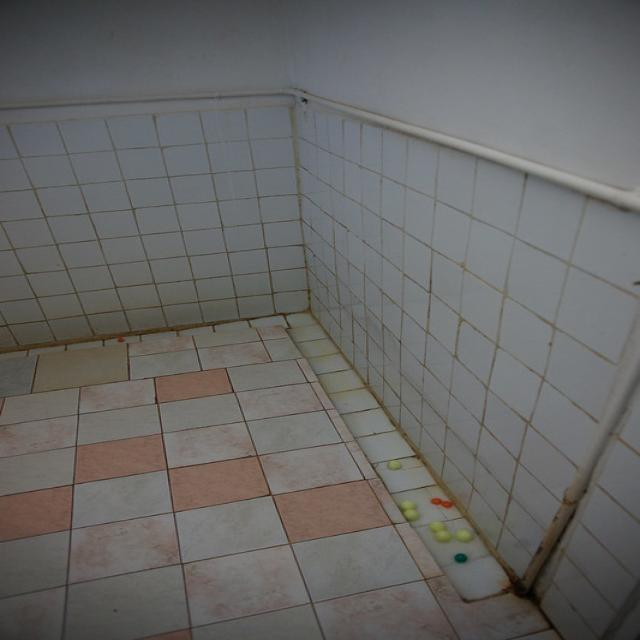dirty_floor: (0, 310, 558, 638), (272, 476, 392, 544)
